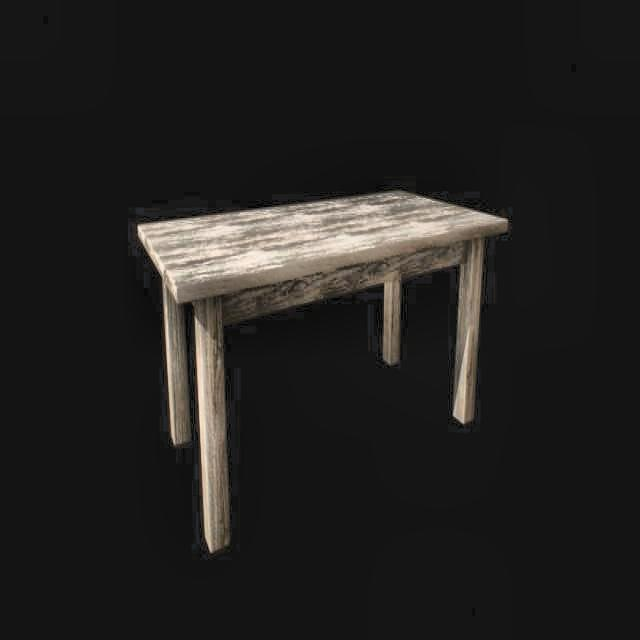mesa: (140, 184, 508, 551)
